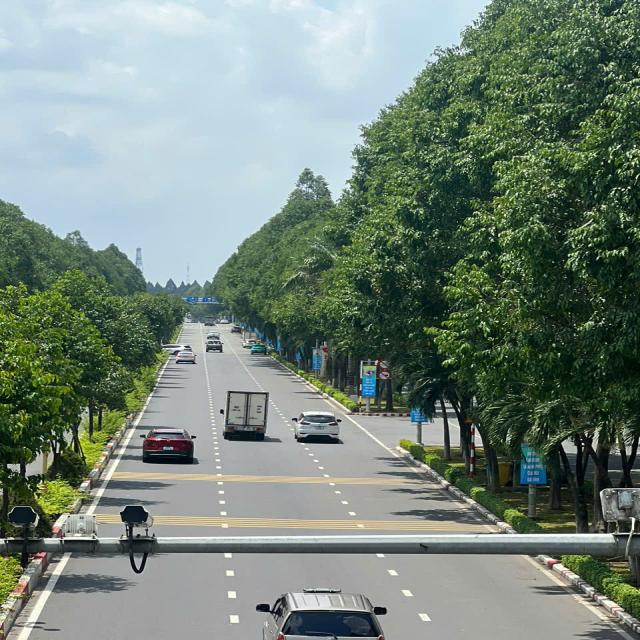Truck: (243, 332, 257, 346), (202, 316, 215, 326)
car: (261, 587, 392, 640), (139, 429, 194, 463), (295, 409, 343, 446), (176, 351, 196, 366), (206, 340, 225, 351), (250, 346, 268, 356), (205, 331, 221, 340), (243, 341, 258, 347), (232, 326, 242, 334), (220, 319, 231, 325)
